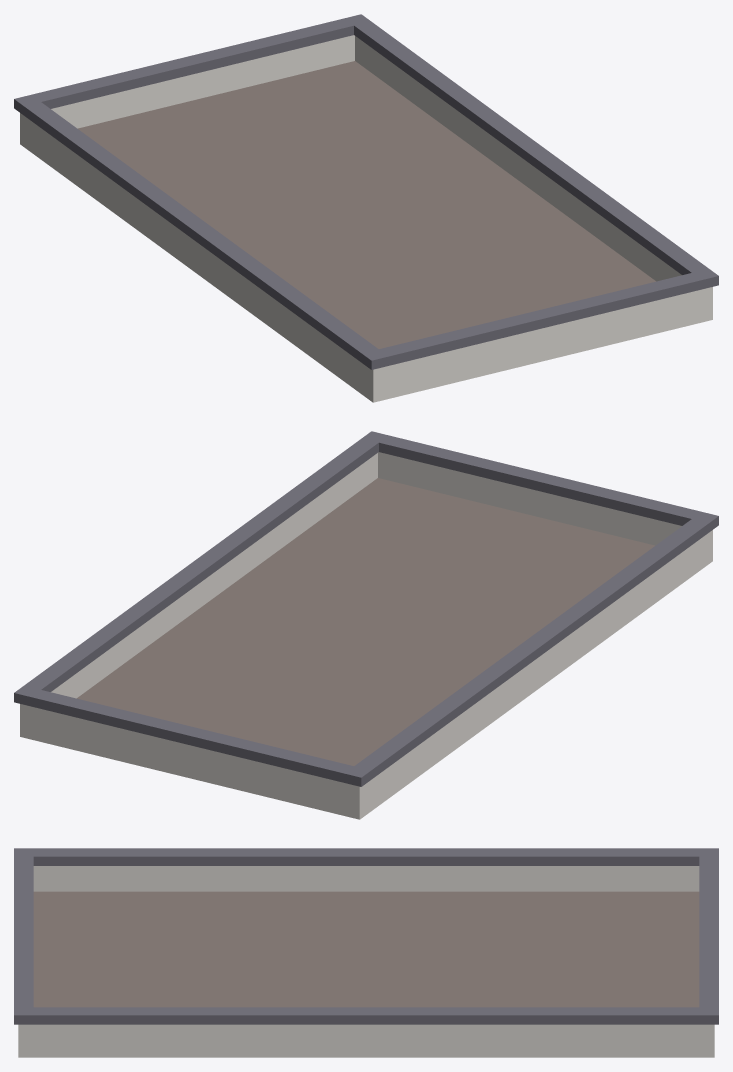
File: SM_Roof_NarrowFlatPlain_White_455_01.gltf
The picture shows the model from 3 angles, top to bottom: view 1: azimuth 30°, elevation 25°; view 2: azimuth 150°, elevation 25°; view 3: azimuth 270°, elevation 25°; orthographic projection.
Parts seen in each view (by area): view 1: SM_Roof_NarrowFlatPlain_White_455_01; view 2: SM_Roof_NarrowFlatPlain_White_455_01; view 3: SM_Roof_NarrowFlatPlain_White_455_01.
Part boxes in pixels (left/top/right/bottom): SM_Roof_NarrowFlatPlain_White_455_01: left=14, top=14, right=718, bottom=402; SM_Roof_NarrowFlatPlain_White_455_01: left=14, top=431, right=718, bottom=819; SM_Roof_NarrowFlatPlain_White_455_01: left=14, top=848, right=718, bottom=1057.
Size of the model in its own units: 4.65 by 0.57 by 8.29.
1 material, 1 textured.
